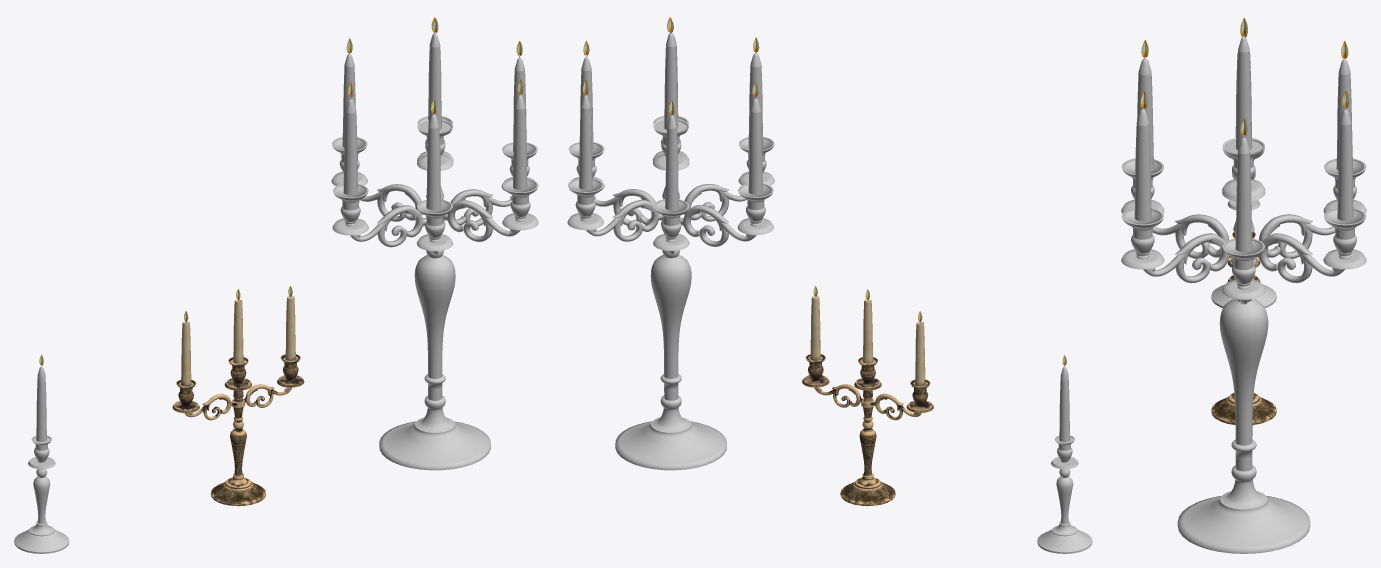
File: brass_candleholders_4k.fbx
The picture shows the model from 3 angles, left to right: view 1: azimuth 30°, elevation 25°; view 2: azimuth 150°, elevation 25°; view 3: azimuth 270°, elevation 25°; orthographic projection. The views are drawn at different scales.
Visible parts, largest first — view 1: brass_candleholder_03, brass_candleholder_02, brass_candleholder_01; view 2: brass_candleholder_03, brass_candleholder_02, brass_candleholder_01; view 3: brass_candleholder_03, brass_candleholder_02, brass_candleholder_01.
Boxes of the visible parts, x1,y1,x2,y2 form: brass_candleholder_03: [331, 17, 538, 470]; brass_candleholder_02: [172, 286, 304, 506]; brass_candleholder_01: [14, 355, 69, 553]; brass_candleholder_03: [567, 17, 774, 470]; brass_candleholder_02: [802, 286, 933, 505]; brass_candleholder_01: [1037, 355, 1092, 553]; brass_candleholder_03: [1121, 18, 1366, 553]; brass_candleholder_02: [1211, 232, 1276, 424]; brass_candleholder_01: [1211, 174, 1276, 307].
Bounding box in the file's own units: 105 × 83.53 × 36.47.
